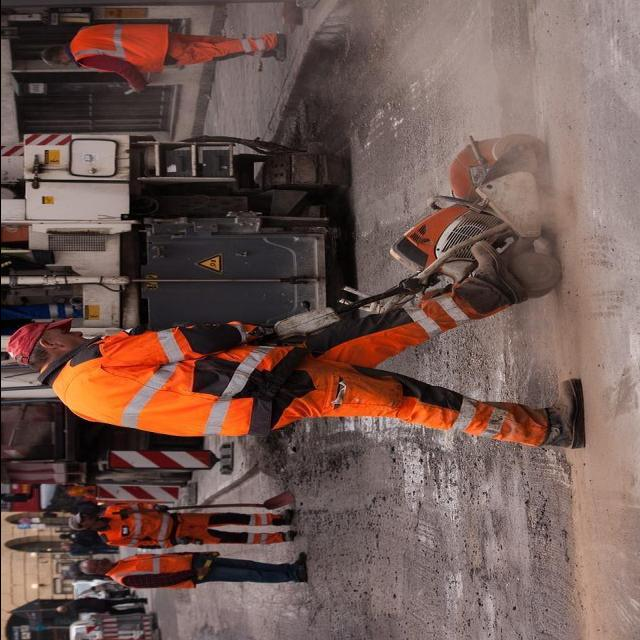jacket: (46, 316, 296, 440), (66, 21, 174, 78), (98, 502, 186, 548), (107, 552, 199, 595)
